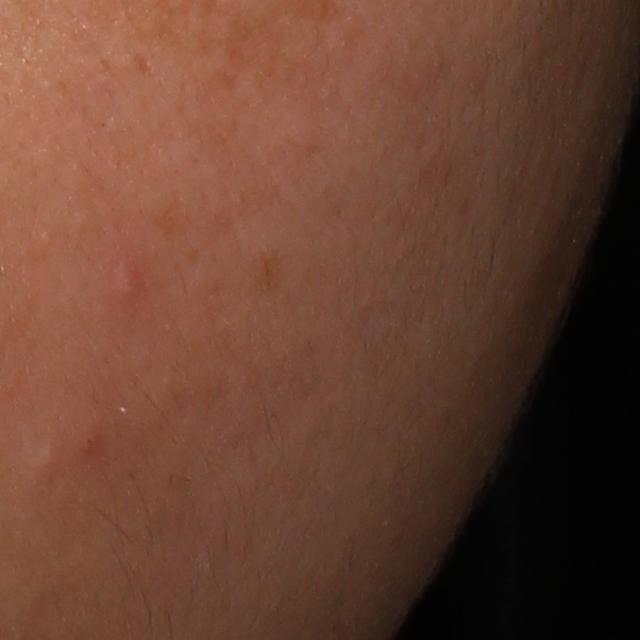comedo: (24, 434, 62, 476)
papule: (108, 257, 147, 299)
